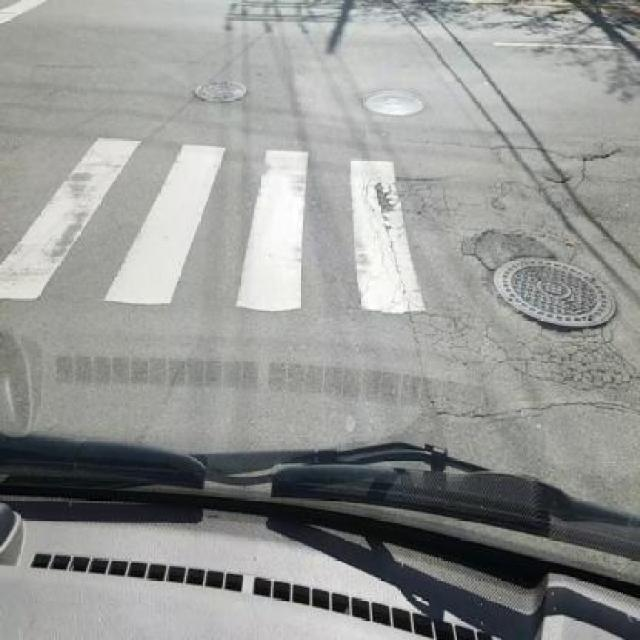Manhole: (487, 254, 618, 334), (363, 90, 429, 113), (192, 80, 248, 106)
